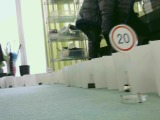speed_20: (108, 23, 139, 53)
